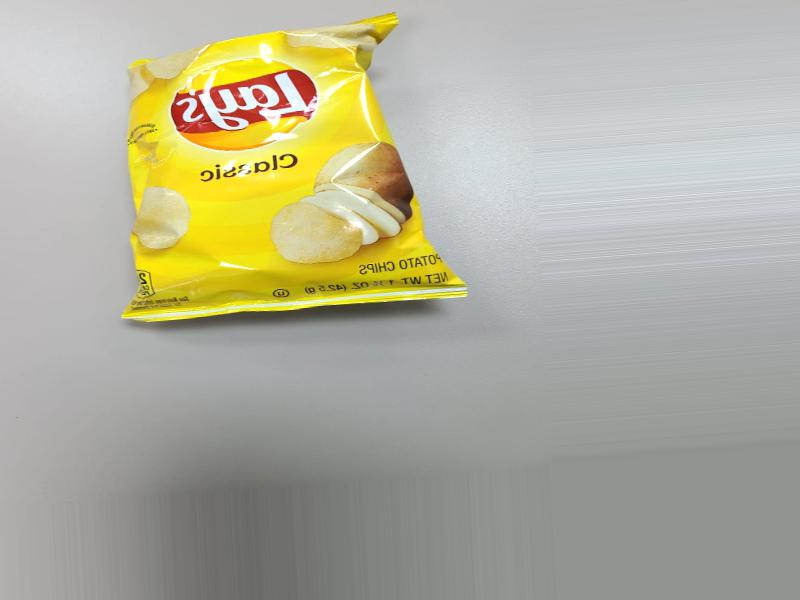lays: (139, 46, 444, 322)
